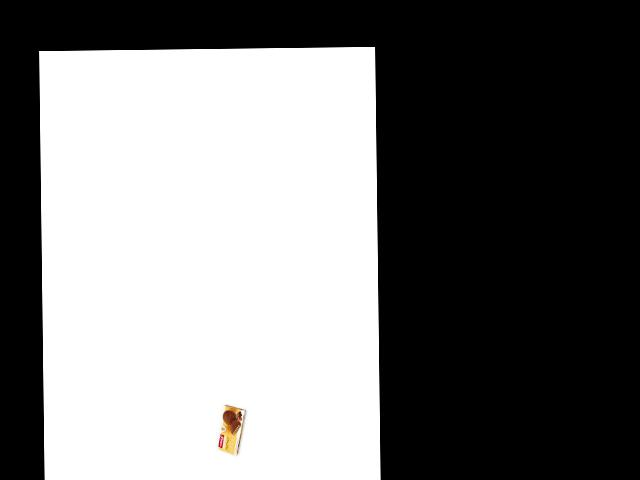chocolate: (216, 401, 241, 463)
